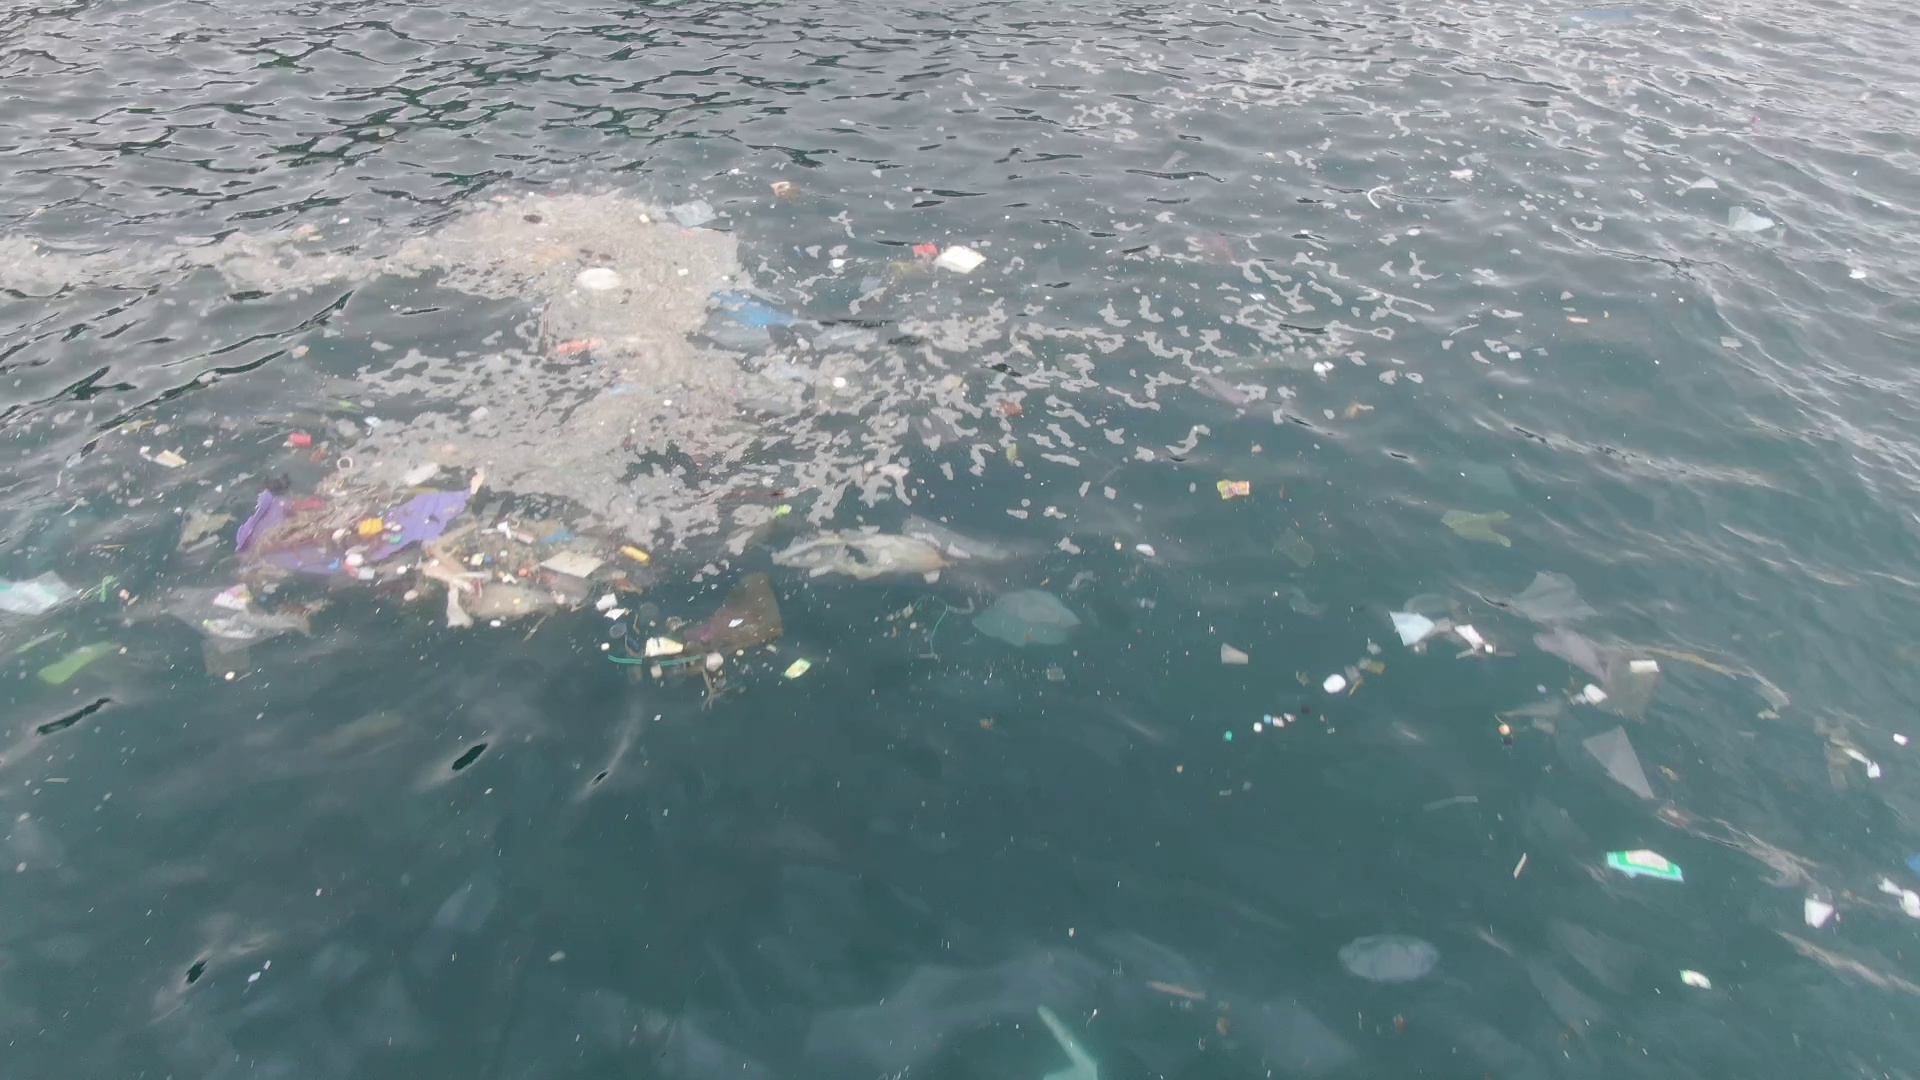garbage: (227, 419, 1084, 704), (1391, 572, 1658, 804), (3, 568, 120, 688), (717, 285, 818, 328), (1320, 640, 1391, 699), (902, 240, 986, 284), (1607, 845, 1687, 887), (1447, 504, 1513, 554), (1222, 713, 1298, 742), (574, 266, 625, 291), (550, 336, 612, 356), (1218, 644, 1251, 669), (1218, 477, 1251, 502)
